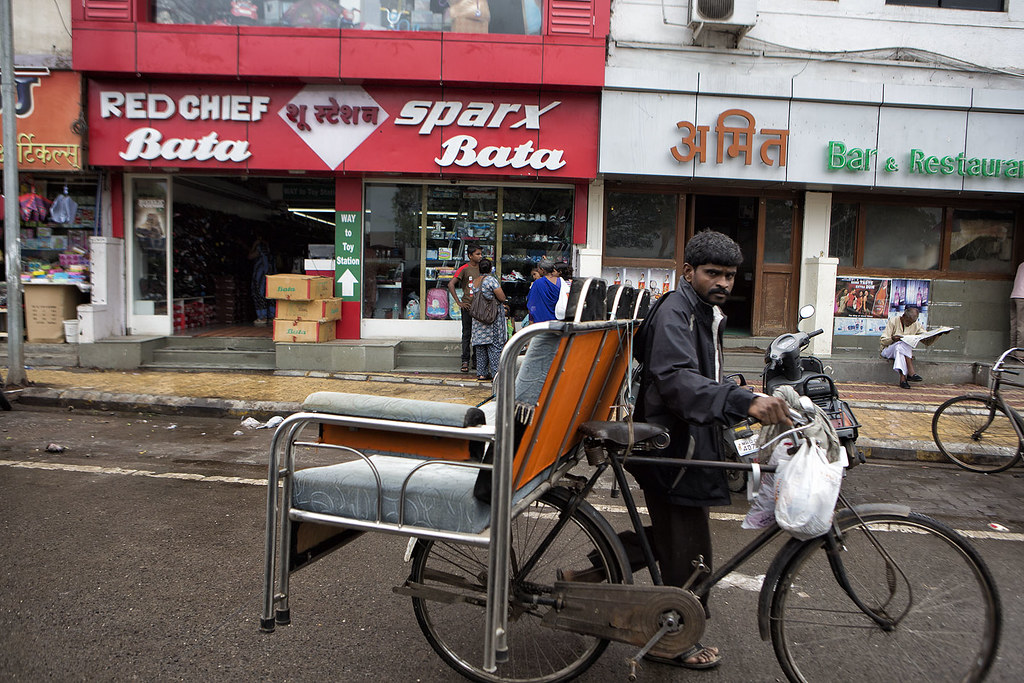person: (638, 220, 789, 660)
